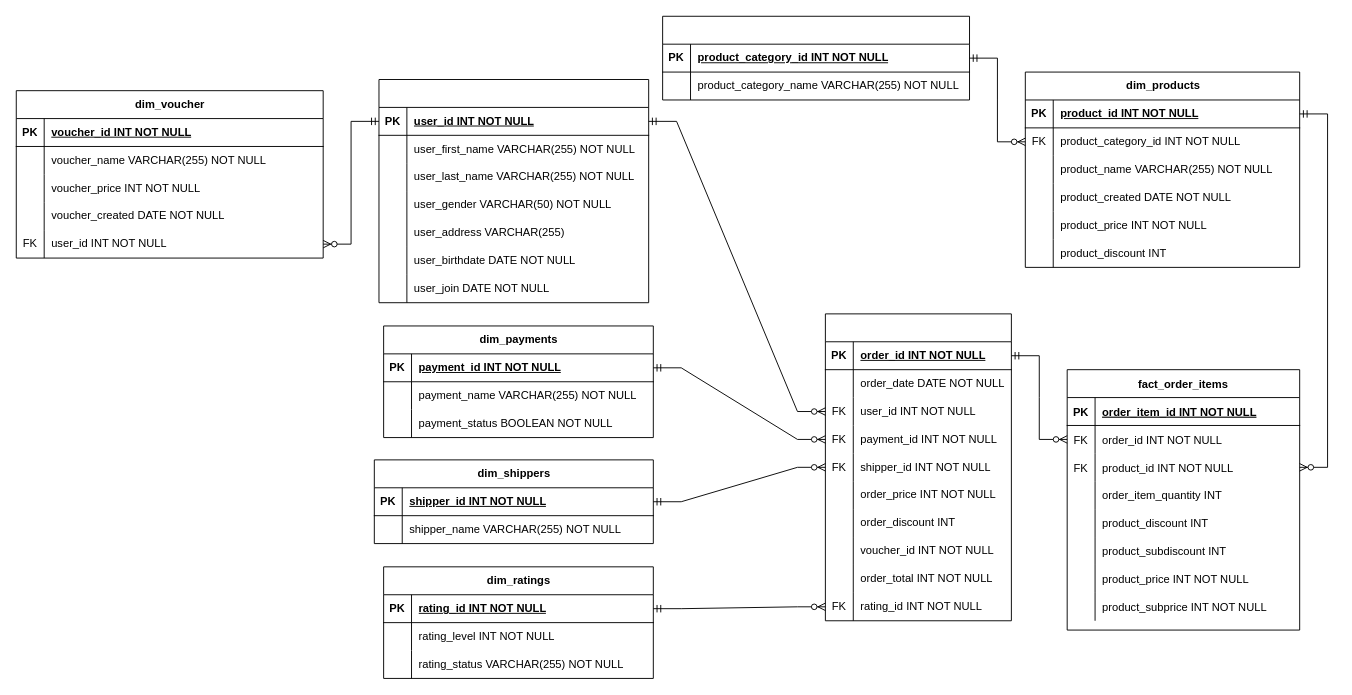
Some shapes in this 1352 by 695 pixel diagram are drawn without their labels. The shapes that lost their labels are listed below. From the top down, each one's box as (x1, y1, x2, y2) in pixels, then its label:
(662, 15, 970, 100): dim_product_category
(378, 79, 649, 303): dim_users
(824, 313, 1011, 621): fact_orders
